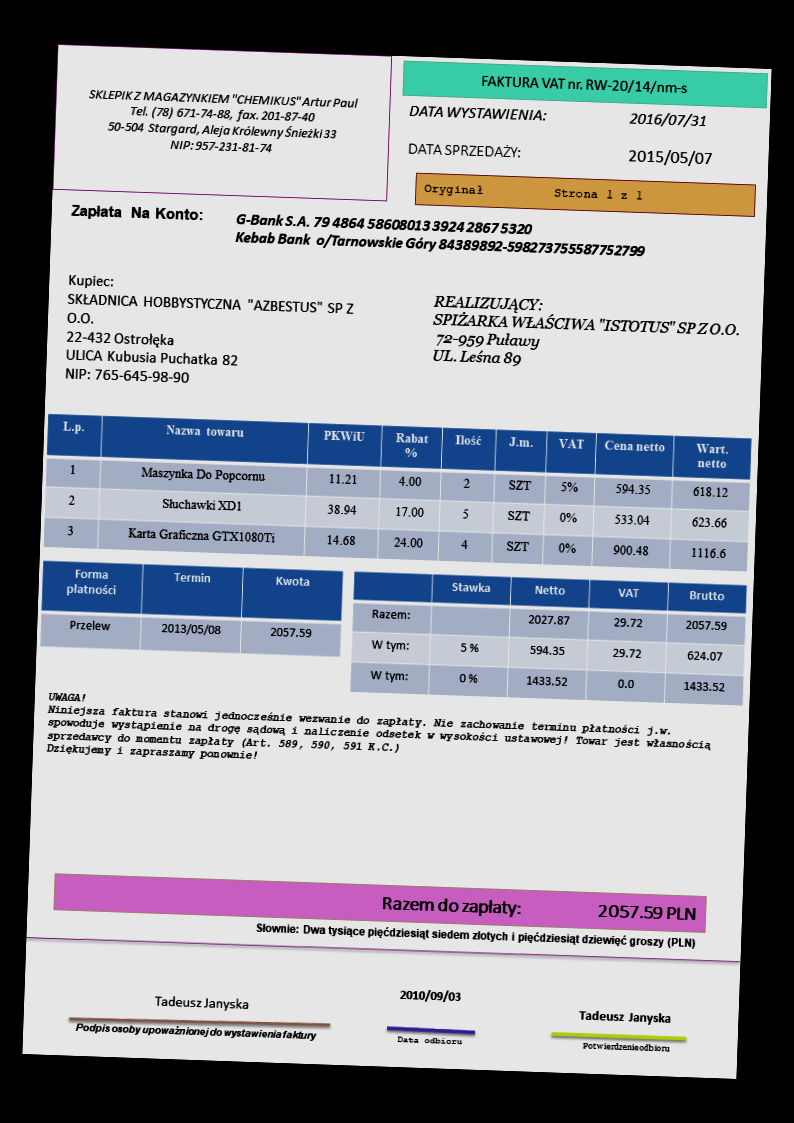Table: (42, 412, 753, 573), (348, 569, 747, 707), (38, 559, 345, 659)
TextBox: (44, 688, 717, 779), (61, 270, 357, 391), (427, 291, 744, 378), (82, 82, 361, 161), (231, 209, 648, 261), (252, 918, 697, 952), (378, 889, 700, 925), (72, 1016, 320, 1044), (477, 68, 690, 99), (421, 178, 647, 206), (406, 99, 549, 124), (69, 200, 204, 224), (405, 136, 523, 163), (624, 145, 716, 170), (577, 1005, 675, 1028), (152, 991, 251, 1013), (626, 108, 708, 130), (581, 1039, 672, 1056), (397, 984, 463, 1005), (394, 1032, 464, 1049)
